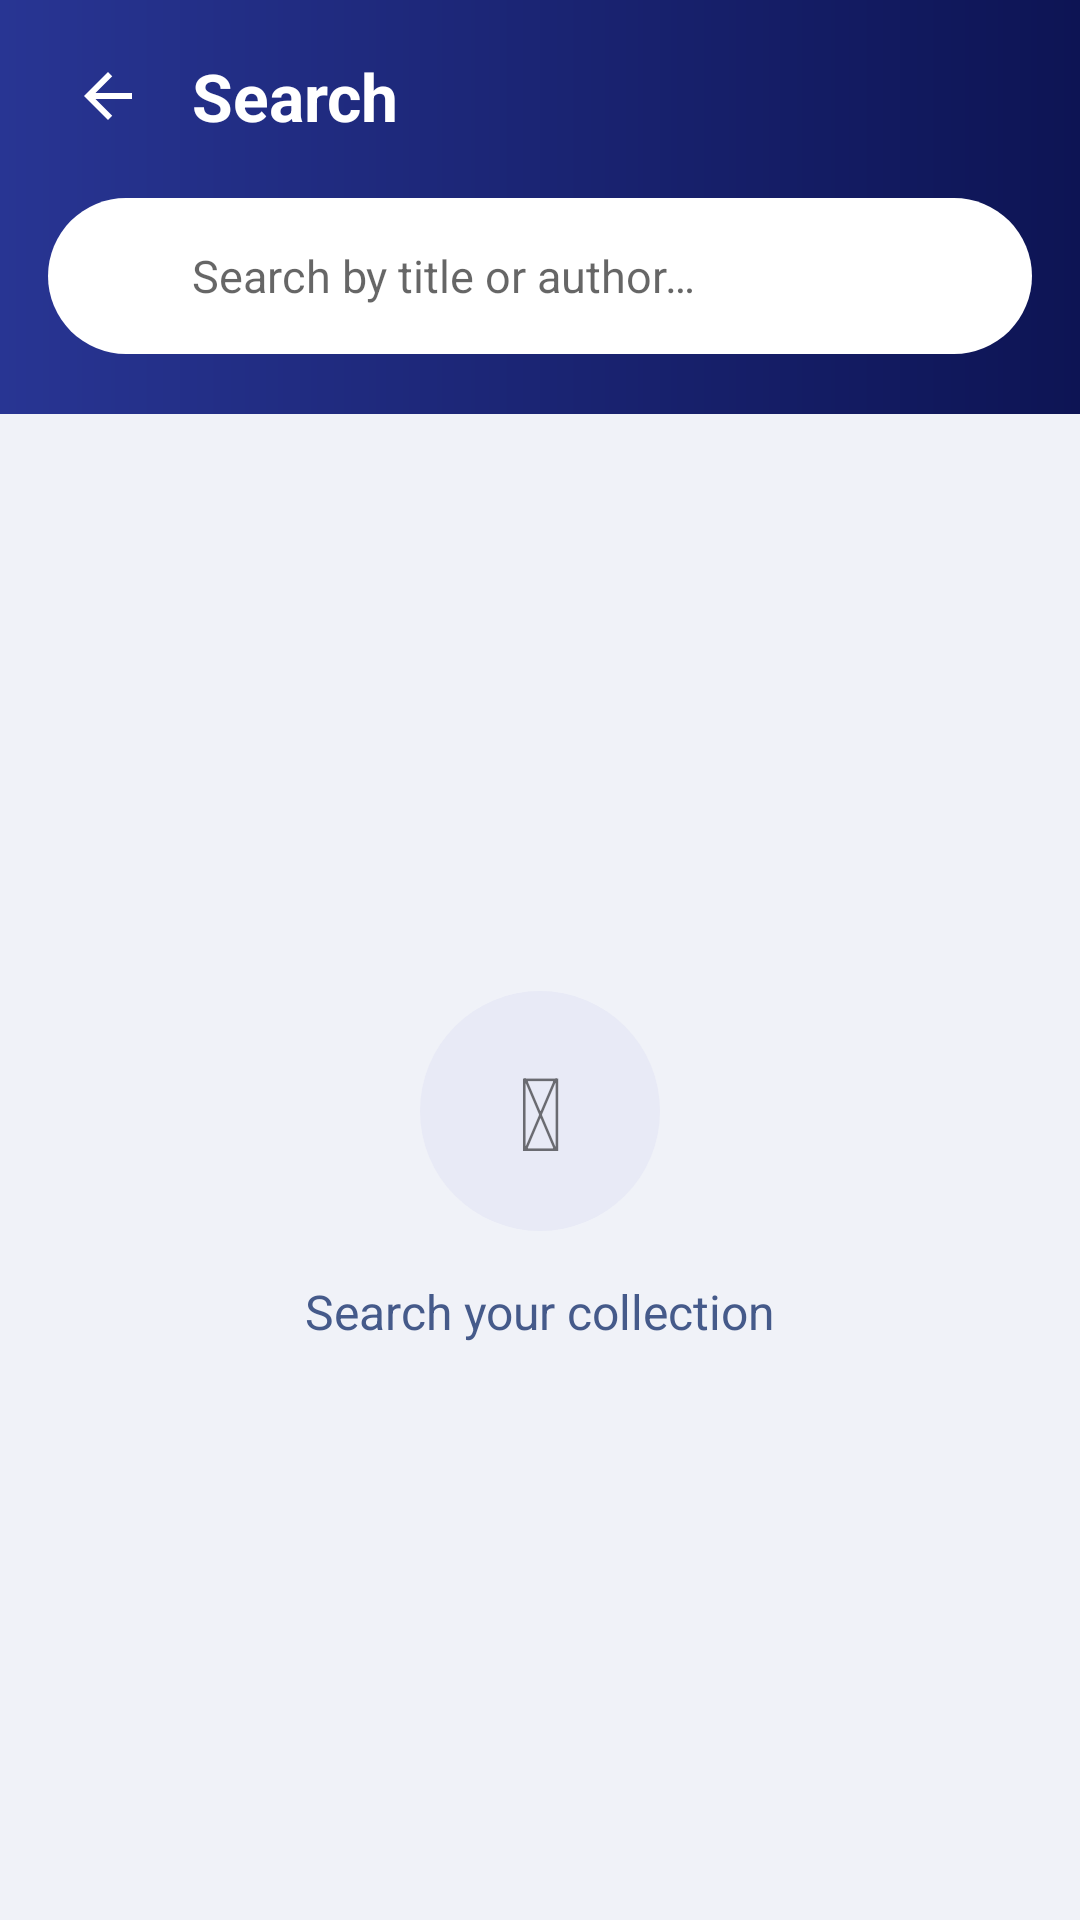

Icon bounding boxes for this 1080*1920 phone screenshot, format BBox(x1, y1, x2, y2):
Back: BBox(84, 72, 132, 120)
